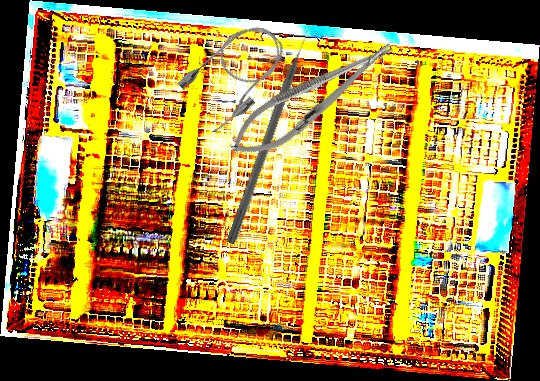Cannula: (171, 12, 300, 138)
Needle Holder: (220, 27, 405, 171)
Pusher: (225, 23, 317, 246)
